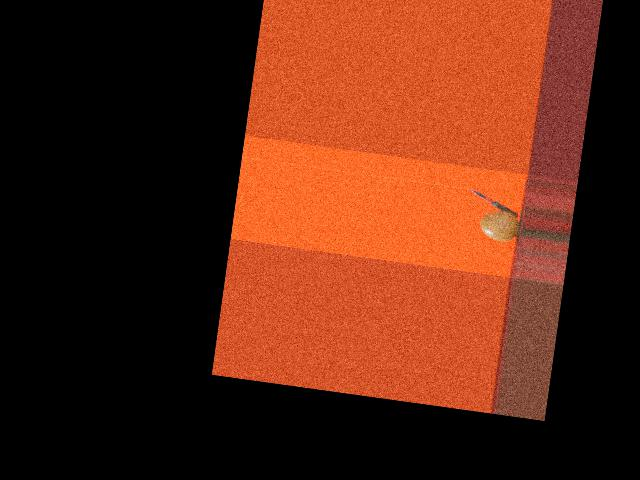egg: (479, 208, 520, 243)
